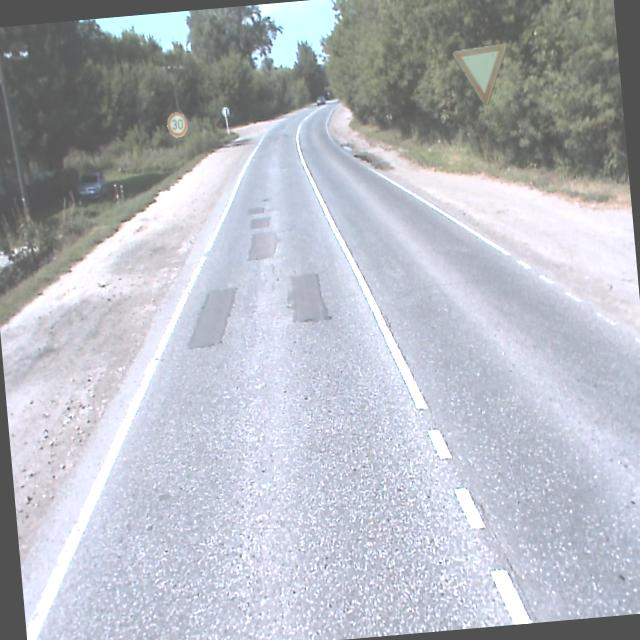road: (21, 105, 640, 640), (329, 98, 335, 106)
